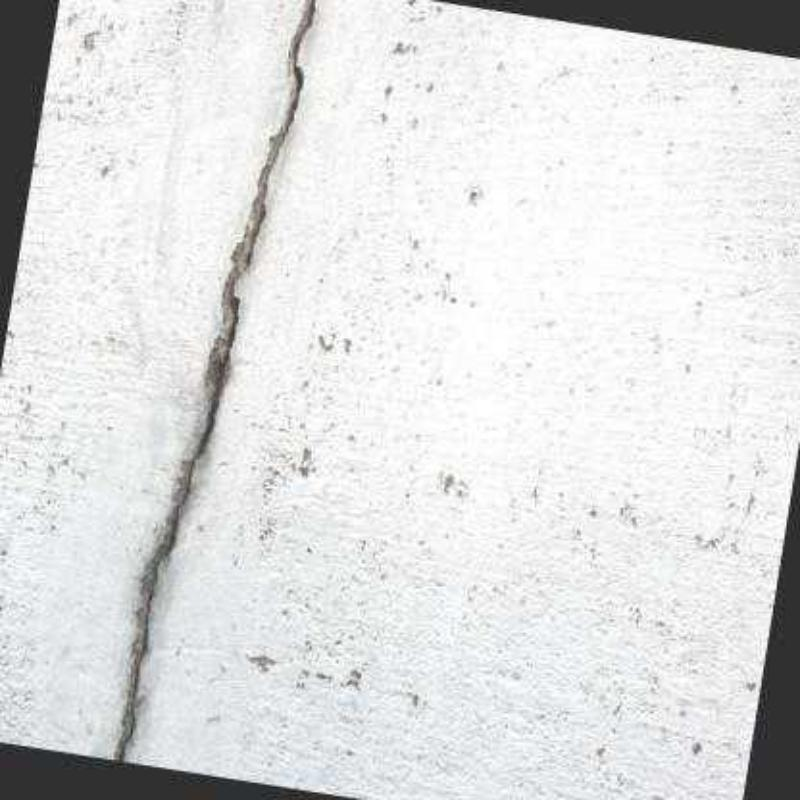crack: (112, 0, 317, 761)
